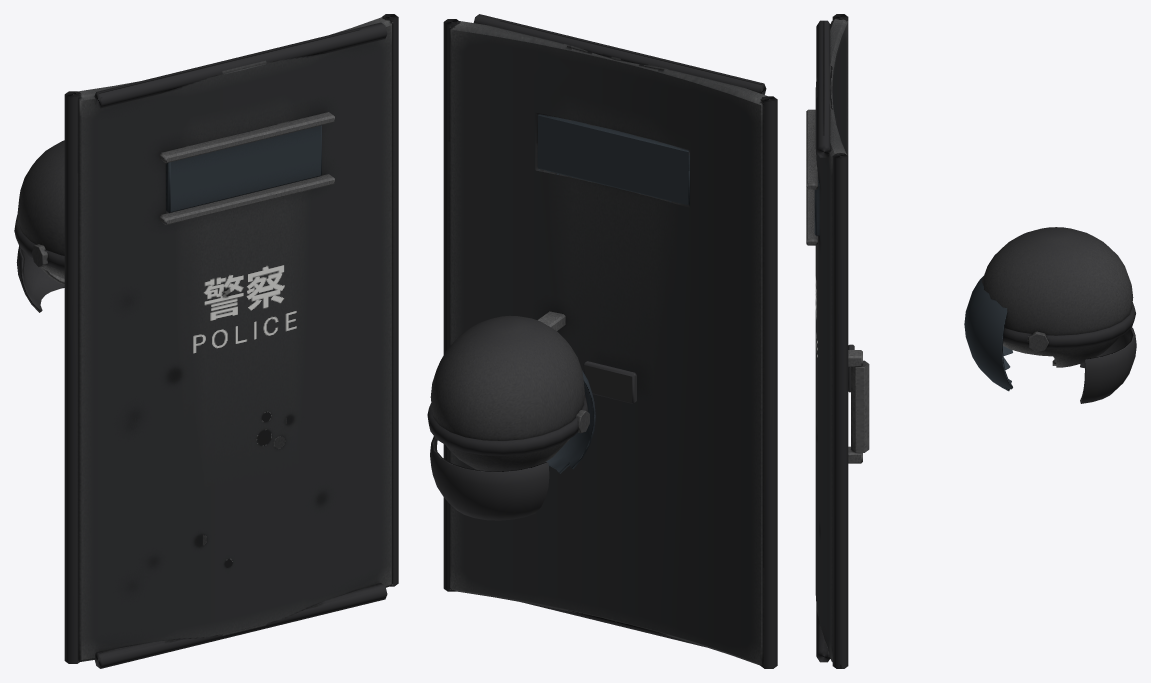
Rendered from gear_shield.gltf.
3 views of the same model, side by side, from view 1: azimuth 30°, elevation 25°; view 2: azimuth 150°, elevation 25°; view 3: azimuth 270°, elevation 25° (orthographic). The views are drawn at different scales.
Parts seen in each view (by area): view 1: shield__chest, helmet__head; view 2: shield__chest, helmet__head; view 3: shield__chest, helmet__head.
Boxes of the visible parts, box(x1,y1,x2,y2) form: shield__chest: box(64, 14, 398, 668); helmet__head: box(14, 140, 64, 312); shield__chest: box(443, 14, 777, 668); helmet__head: box(427, 315, 595, 520); shield__chest: box(806, 14, 869, 668); helmet__head: box(964, 227, 1136, 403).
Bounding box in the file's own units: 0.5788 × 0.9625 × 0.558.
Materials: 1 (1 with a texture image).
